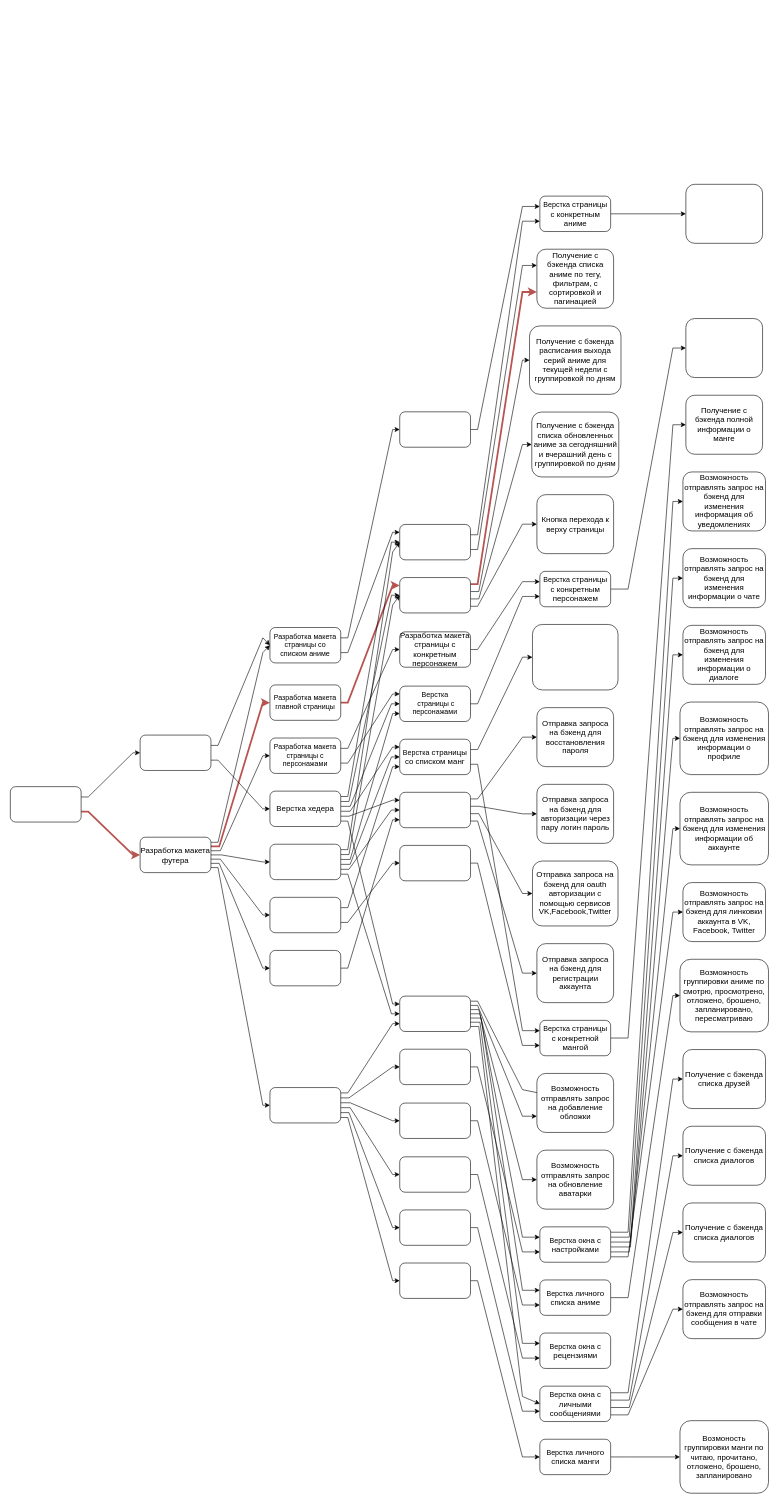
This 779x1503 diagram has some shape labels left out. The shapes that lost their labels are listed below. From the top down, each one's centre as x and y in pixels, then its label:
At (x=724, y=213): "Получение с бэкенда полной информации об аниме".
At (x=724, y=348): "Получение с бэкенда полной информации о персонаже".
At (x=435, y=429): "Разработка макета страницы с конкретным аниме".
At (x=435, y=542): "Верстка страницы со списком аниме".
At (x=435, y=595): "Верстка главной страницы".
At (x=575, y=657): "Получение с бэкенда списка манг по тегу, фильтрам, с сортировкой и пагинацией".
At (x=175, y=752): "Разработка макета хедера".
At (x=45, y=804): "Разработка дизайн-системы".
At (x=435, y=810): "Верстка окна авторизации/регистрации".
At (x=305, y=862): "Верстка футера".
At (x=435, y=863): "Разработка макета страницы с конкретной мангой".
At (x=305, y=915): "Разработка макета страницы со списком манг".
At (x=305, y=968): "Разработка макета окна авторизации/регистрации".
At (x=435, y=1013): "Верстка личного кабинета".
At (x=435, y=1067): "Разработка макета окна с настройками".
At (x=305, y=1105): "Разработка макета личного кабинета".
At (x=435, y=1120): "Разработка макета личного списка аниме".
At (x=435, y=1174): "Разработка макета окна с рецензиями".
At (x=435, y=1227): "Разработка макета окна с личными сообщениями".
At (x=435, y=1280): "Разработка макета личного списка манги".
